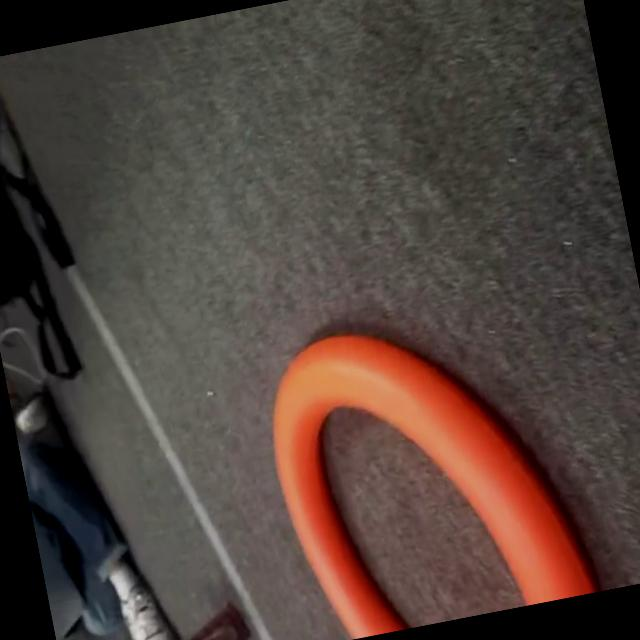note: (234, 275, 609, 640)
